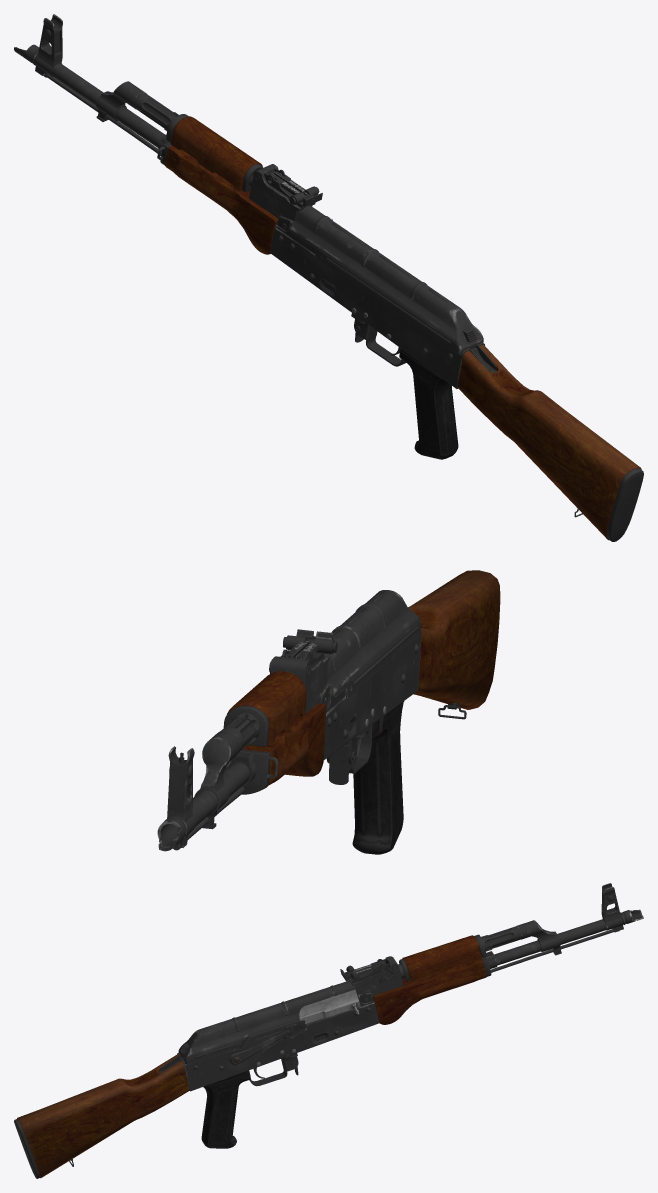
The model's file is akm.glb.
3 views of the same model, one above another, from view 1: azimuth 30°, elevation 25°; view 2: azimuth 150°, elevation 25°; view 3: azimuth 270°, elevation 25° (orthographic). The views are drawn at different scales.
Visible parts, largest first — view 1: akm; view 2: akm; view 3: akm.
Part boxes in pixels (x1,y1,x2,y2): akm: (14, 14, 643, 541); akm: (157, 570, 500, 854); akm: (14, 883, 643, 1178).
Bounding box in the file's own units: 2.76 × 3.49 × 8.9.
Materials: 3 (3 with a texture image).
